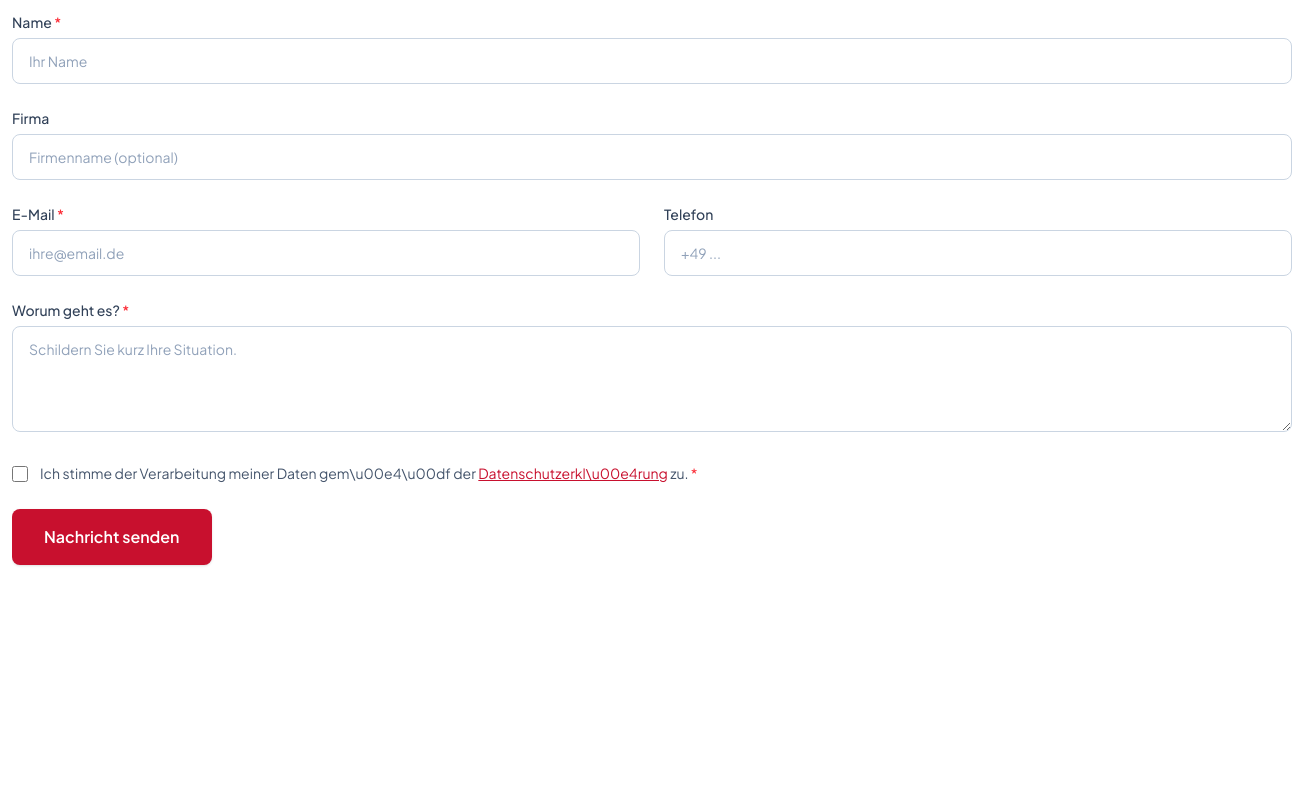
Scenario: ContactForm › email validation › shows error for invalid email format
The width and height of the screenshot is (1304, 812).
Type "Max Mustermann" into the field labelled "Name *" at (652, 61), box [12,38,1292,84]
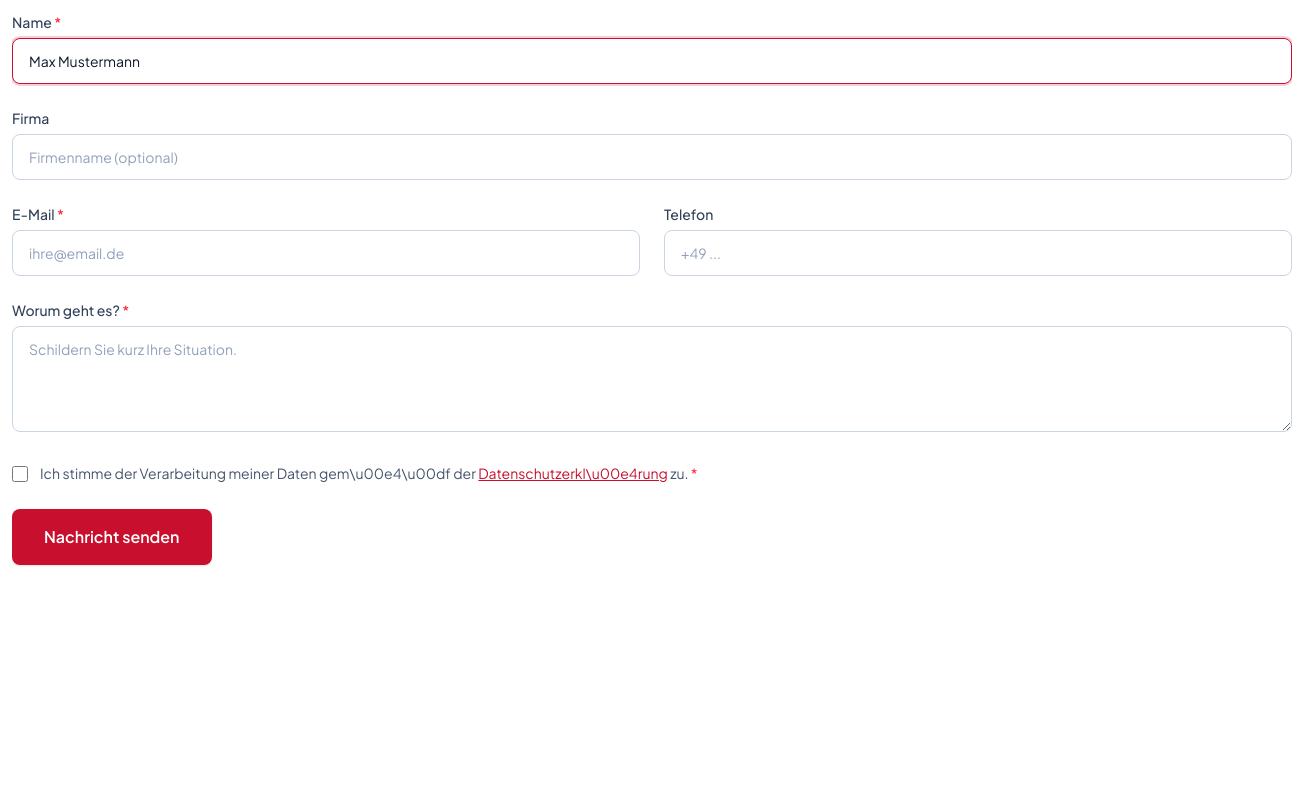
Type "ungueltige-email" into the field labelled "E-Mail *" at (326, 253), box [12,230,640,276]
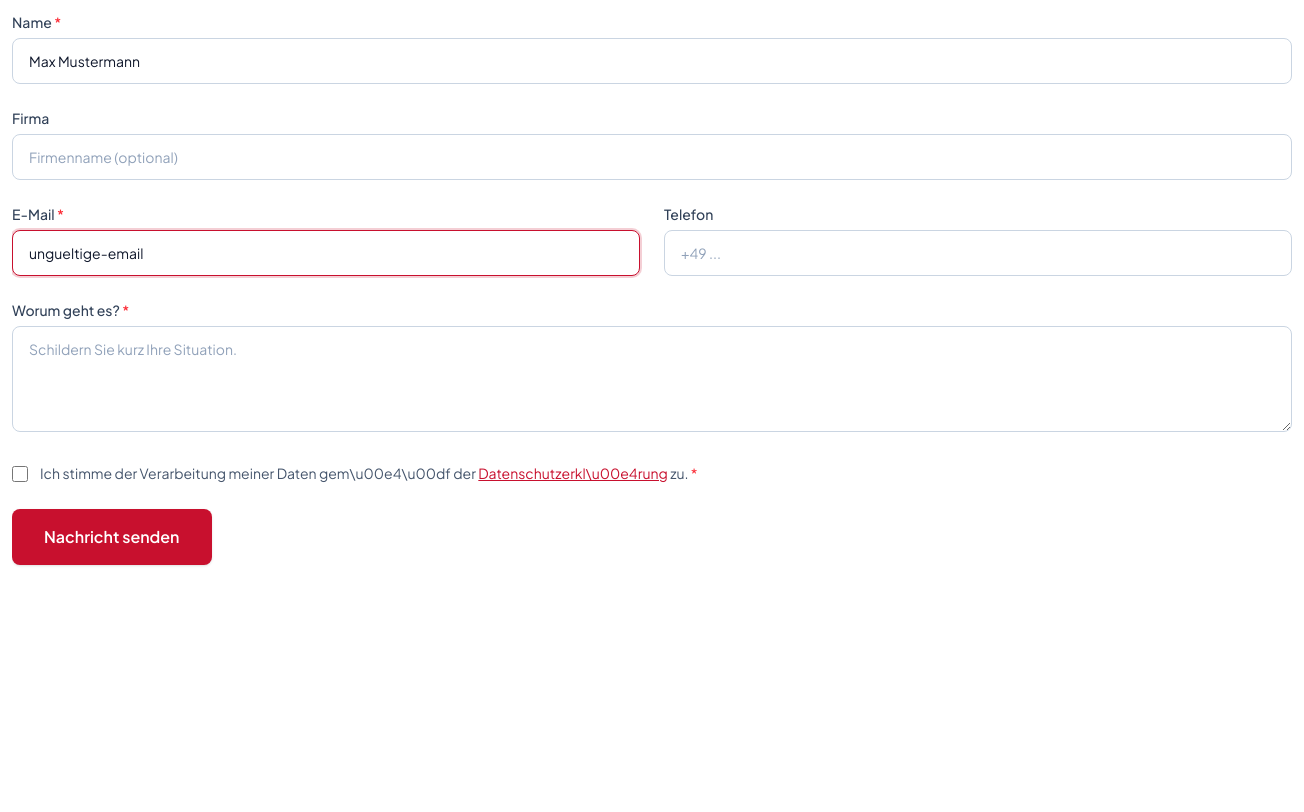
Type "Testnachricht" into the text box labelled "Worum geht es? *" at (652, 379), box [12,326,1292,432]
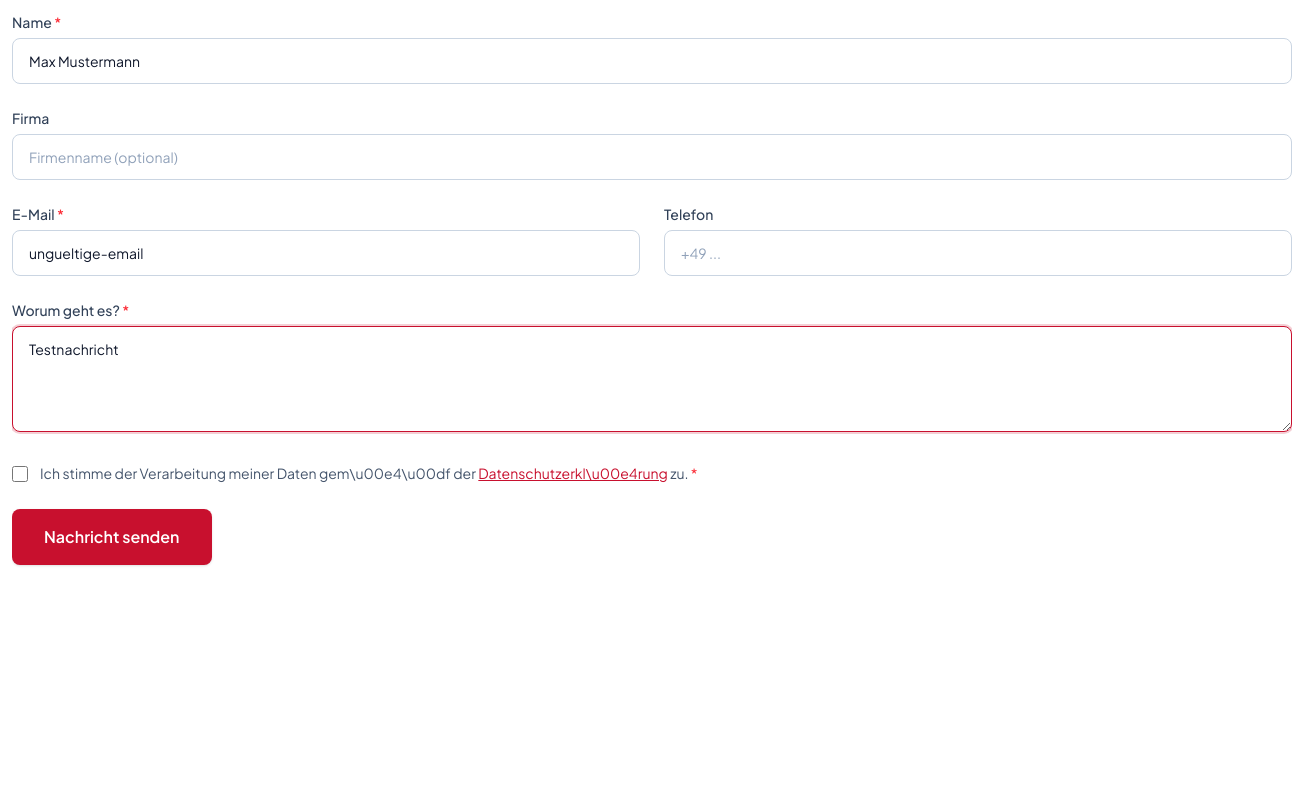
Click the checkbox at (20, 474), box [12,466,28,482]
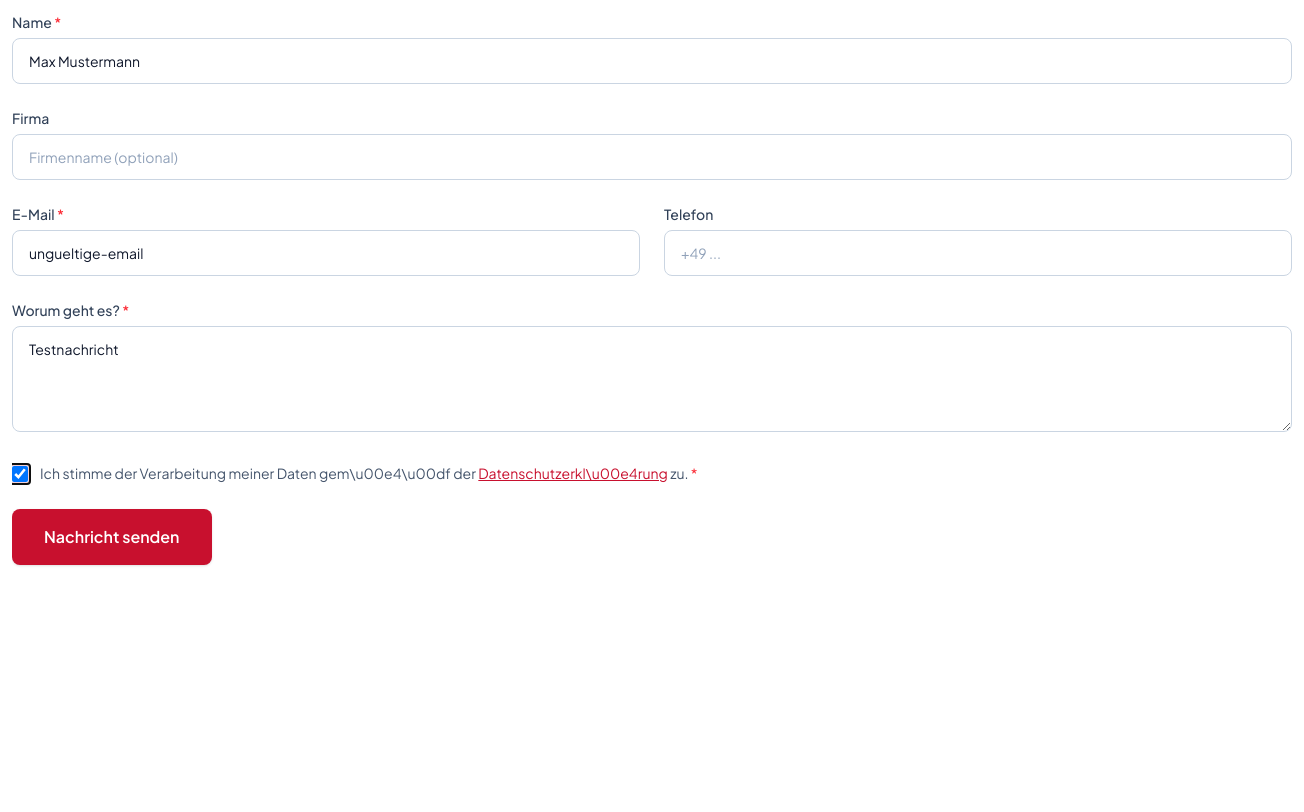
Click the button "Nachricht senden" at (112, 537), box [12,509,212,565]
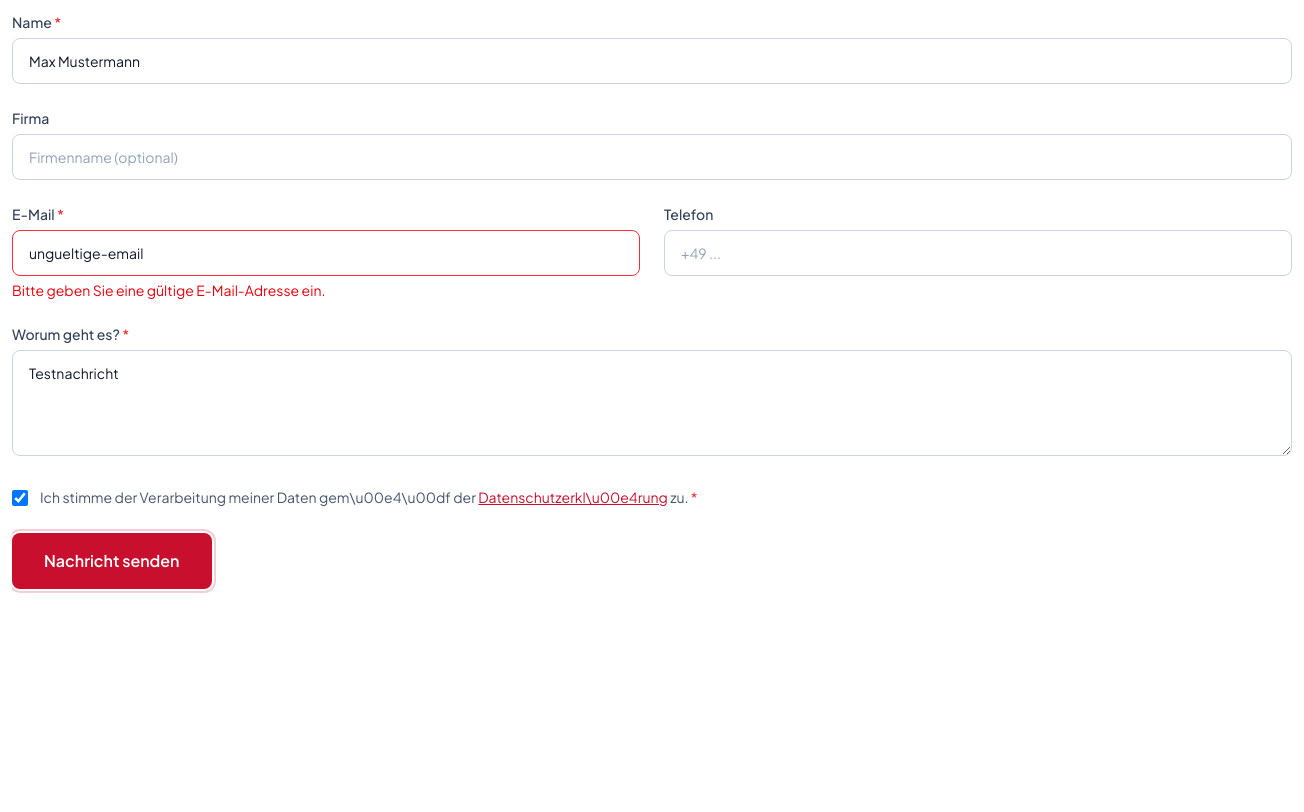
Expected: the text "Bitte geben Sie eine gültige E-Mail-Adresse ein." is shown, [12,281,325,299]
